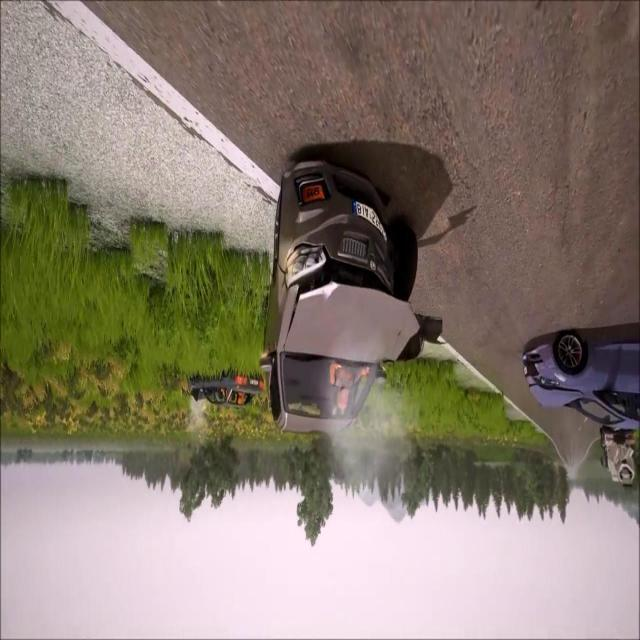moderate: (258, 153, 422, 439)
